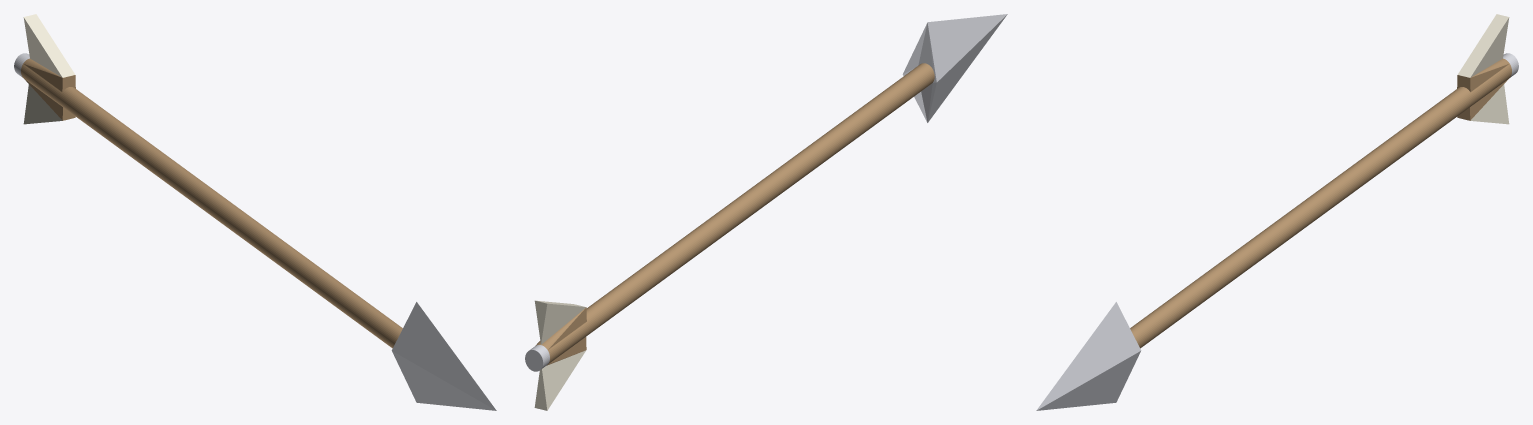
File: arrow.glb
3 views of the same model, side by side, from view 1: azimuth 30°, elevation 25°; view 2: azimuth 150°, elevation 25°; view 3: azimuth 330°, elevation 25° (orthographic).
Visible parts, largest first — view 1: Arrow; view 2: Arrow; view 3: Arrow.
Part boxes in pixels (x1,y1,x2,y2): Arrow: [14, 14, 496, 410]; Arrow: [525, 14, 1007, 410]; Arrow: [1036, 14, 1518, 410].
Bounding box in the file's own units: 0.0375 × 0.1125 × 0.9.
